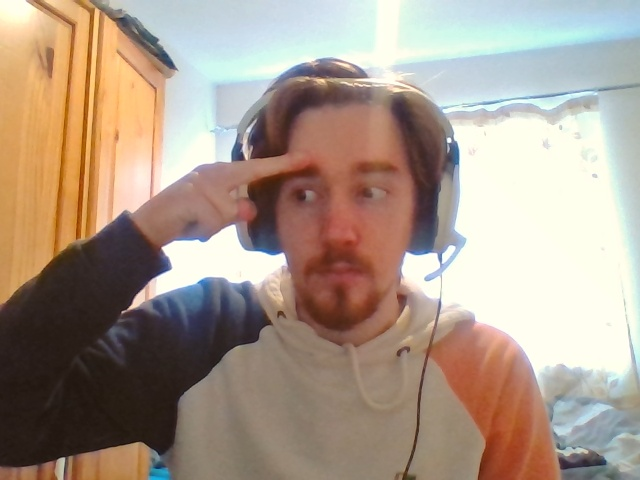name: (175, 151, 311, 242)
